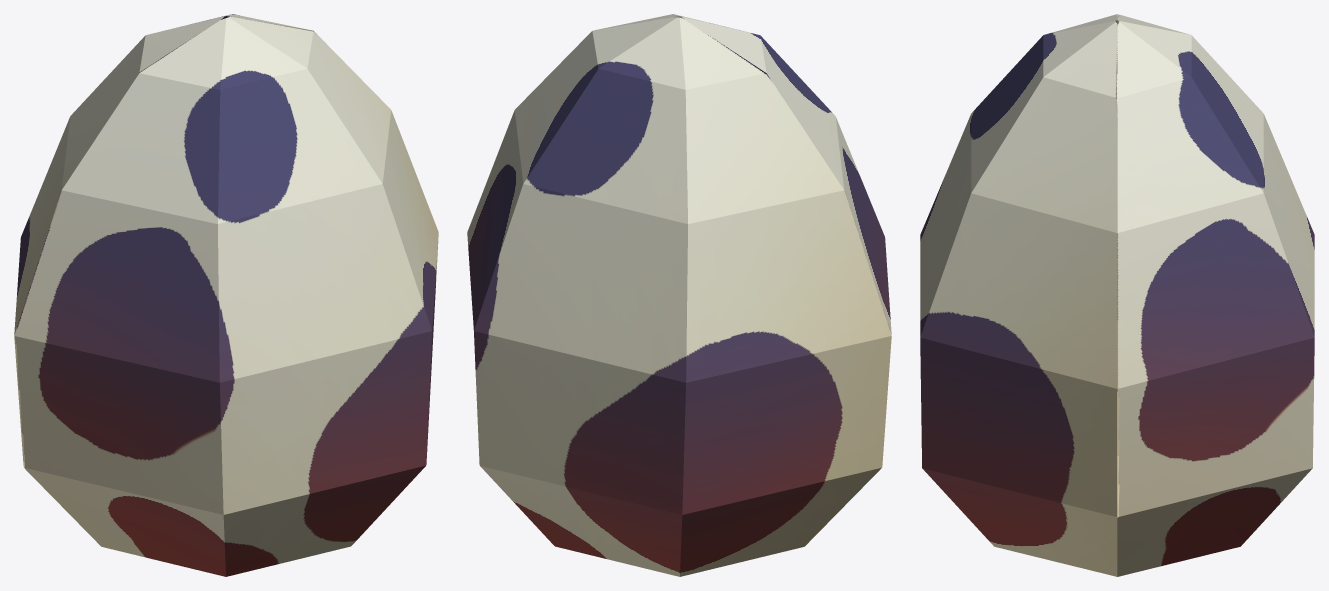
The model's file is LP_Egg.fbx.
3 renders of one model, left to right at view 1: azimuth 30°, elevation 25°; view 2: azimuth 150°, elevation 25°; view 3: azimuth 270°, elevation 25°, orthographic.
Visible parts, largest first — view 1: Egg_low; view 2: Egg_low; view 3: Egg_low.
Boxes of the visible parts, x1,y1,x2,y2 form: Egg_low: (14, 14, 438, 576); Egg_low: (467, 14, 891, 576); Egg_low: (920, 14, 1314, 576).
Bounding box in the file's own units: 26.66 × 32.17 × 21.64.
